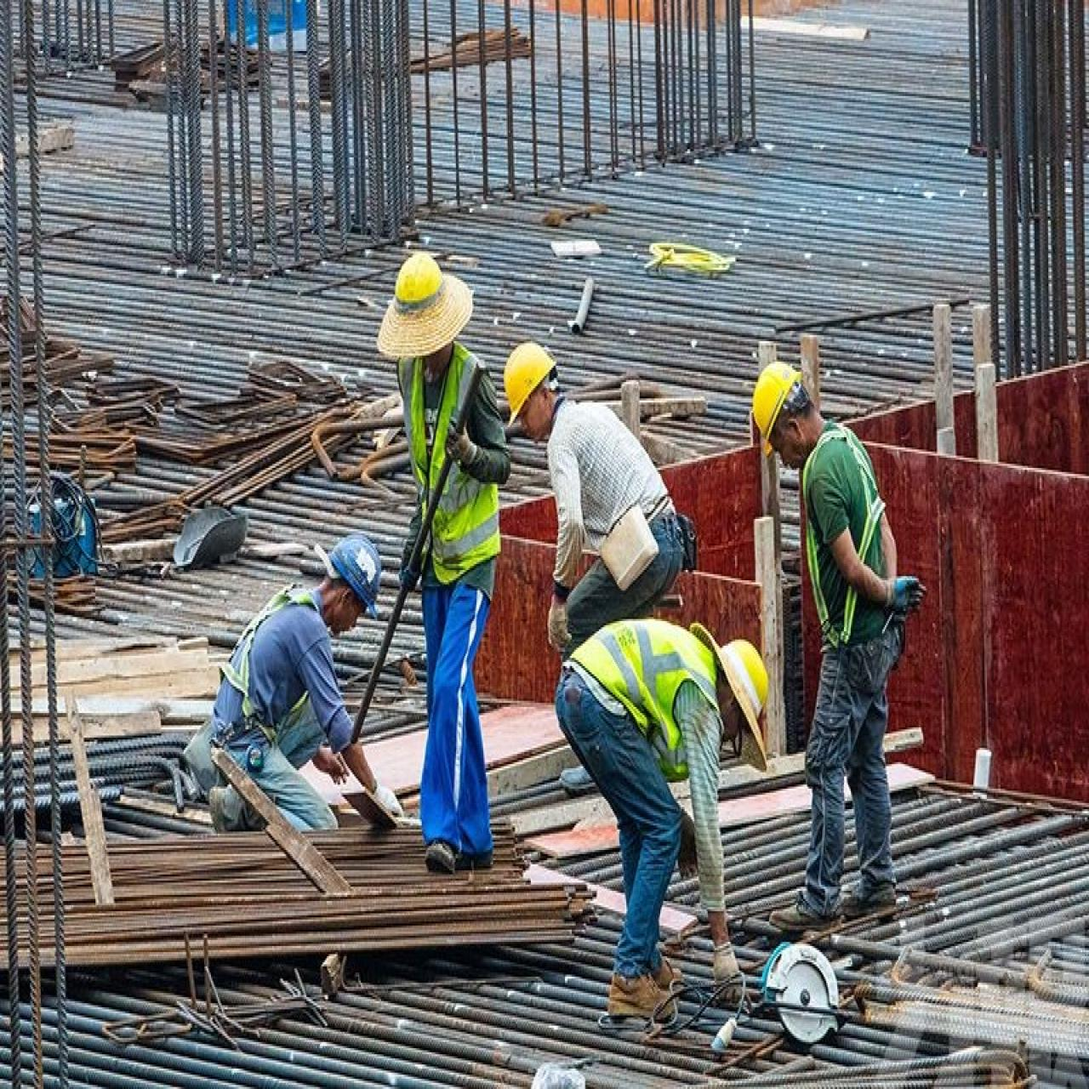NO_Safety_Vest: (798, 426, 894, 653), (545, 394, 673, 552), (209, 573, 317, 754)
Person: (737, 334, 931, 924), (366, 224, 532, 891), (545, 597, 780, 1042), (495, 317, 706, 800), (183, 526, 417, 854)
Safety_Vest: (567, 611, 718, 781), (399, 355, 504, 581)
